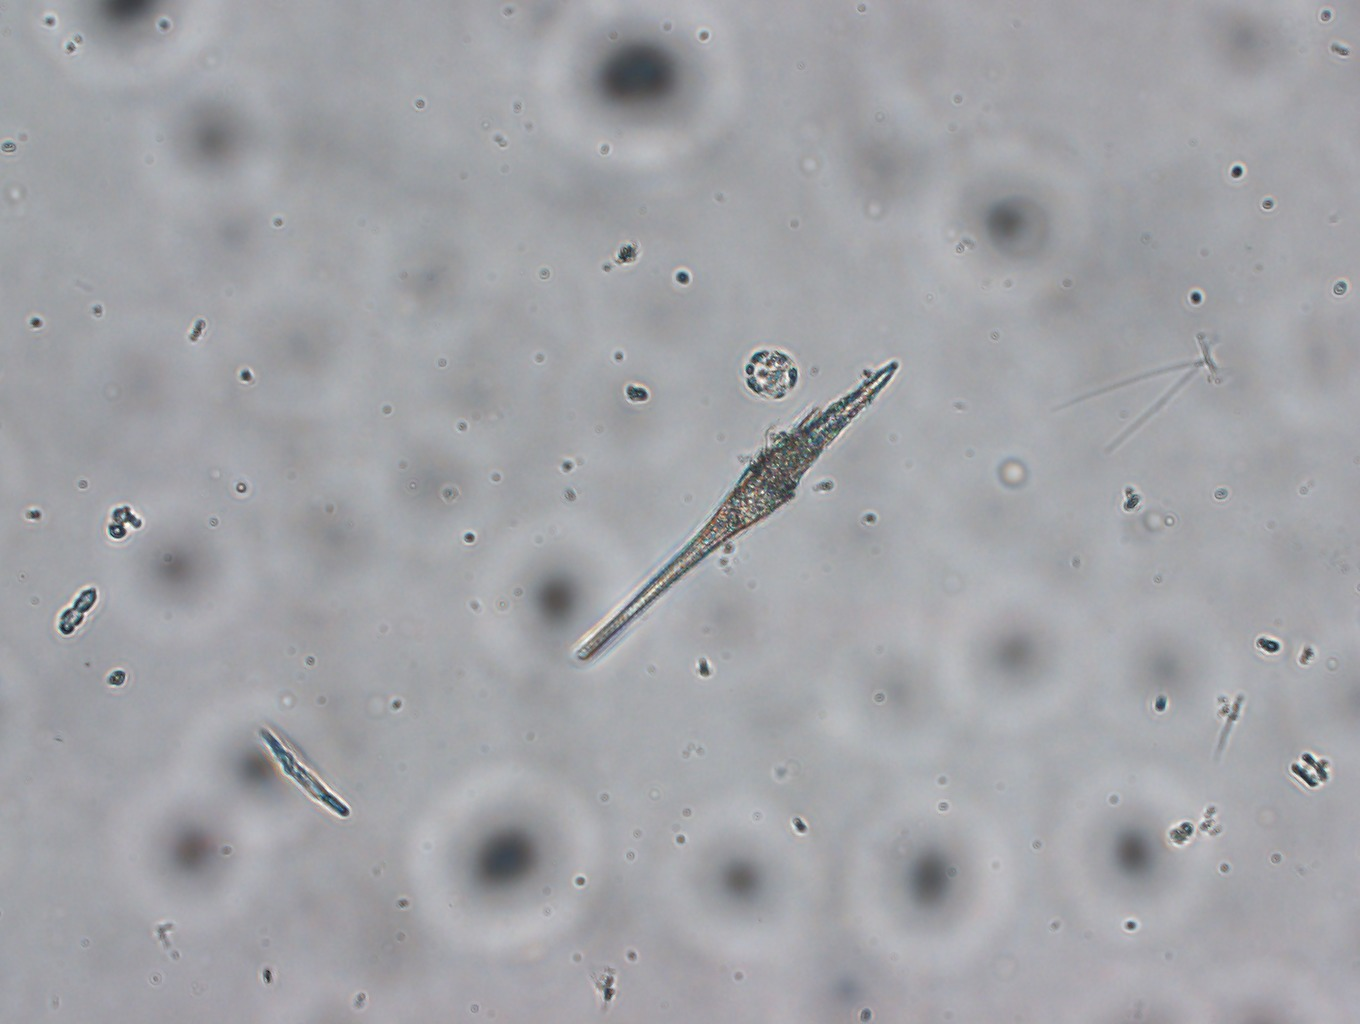ceratium fusus: (563, 356, 910, 675)
